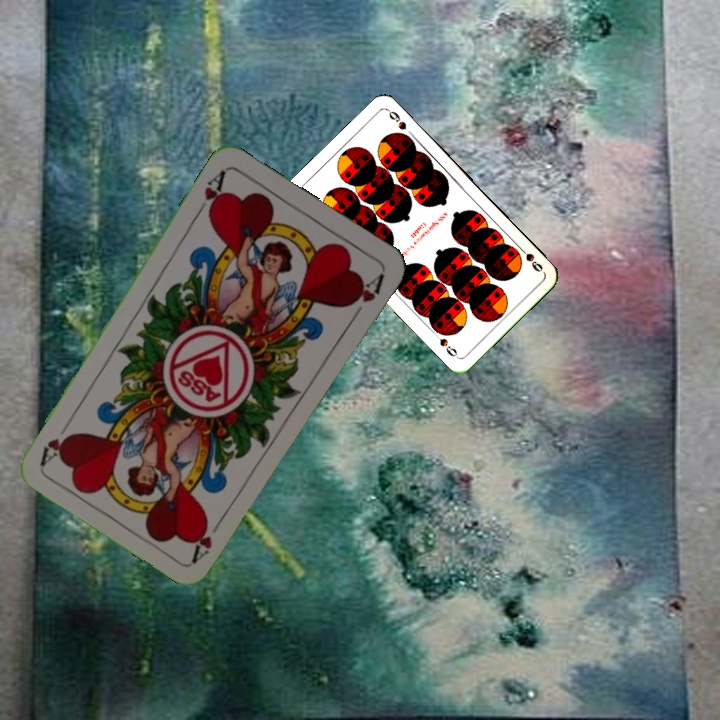HA: (188, 511, 227, 564), (191, 166, 229, 220)
S9: (514, 242, 545, 275)
